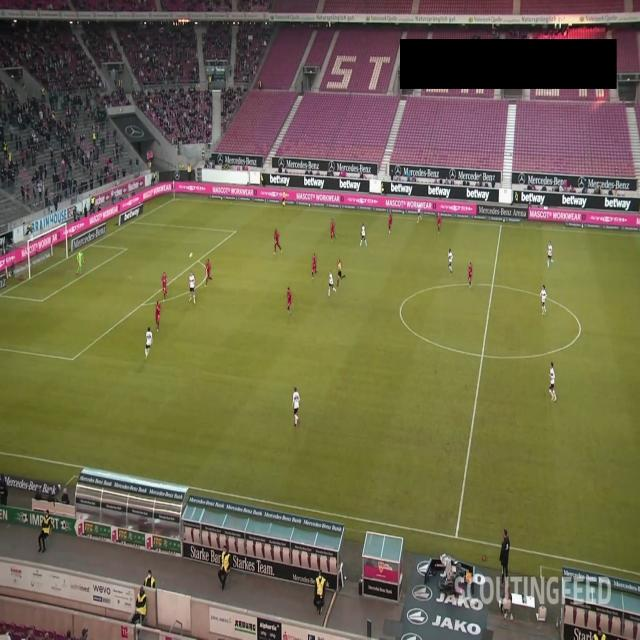f_player: (548, 362, 558, 402), (291, 387, 301, 427), (142, 328, 152, 360), (539, 286, 549, 316), (188, 275, 198, 305), (158, 270, 168, 300), (272, 228, 283, 254), (202, 260, 212, 286), (154, 301, 162, 329), (446, 249, 454, 275), (466, 262, 474, 288), (286, 288, 294, 314), (547, 241, 555, 266), (310, 254, 318, 277), (77, 253, 85, 276), (330, 220, 338, 242), (361, 224, 368, 248)
